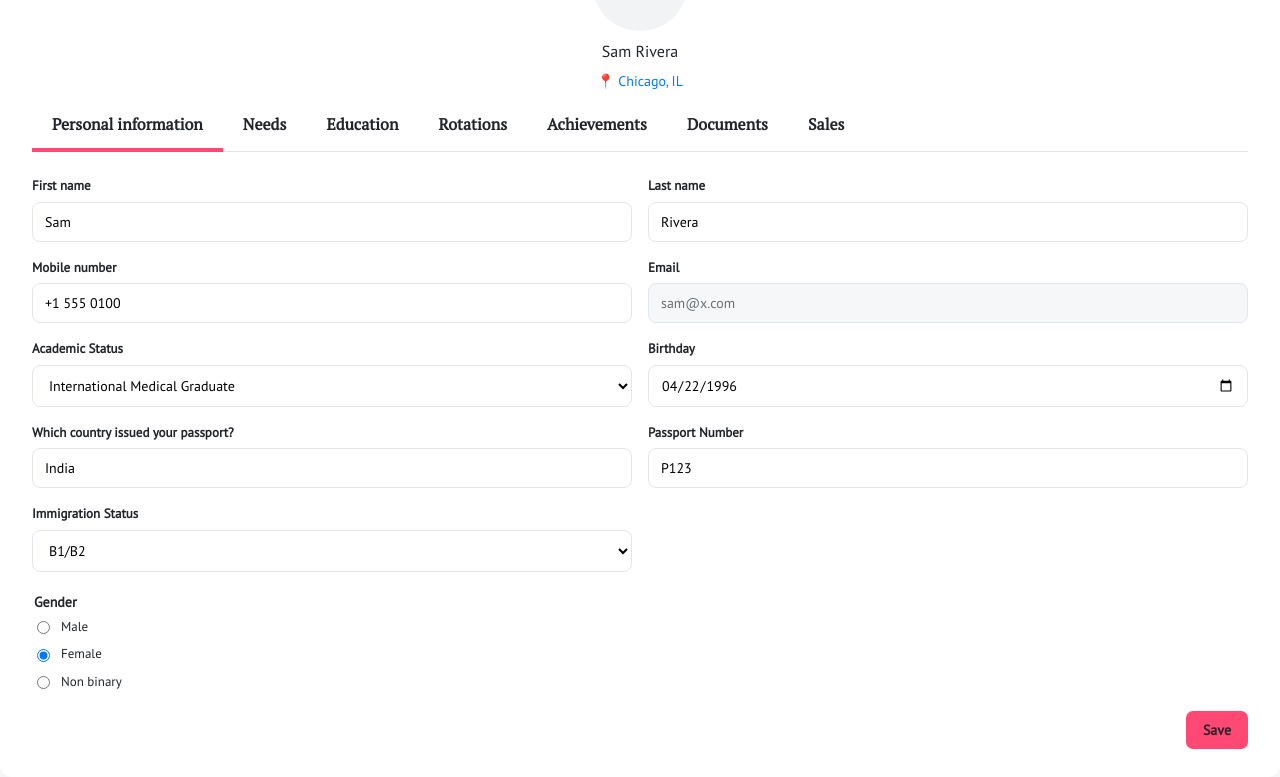
it: StudentProfilePage › saves the Personal Information tab via the per-tab endpoint
This screenshot has width=1280, height=777.
(page scrolled)
expect the field labelled "First name" is shown: met, box [32,202,632,242]
Click the button "Save": (1217,730) [1186,711,1248,749]
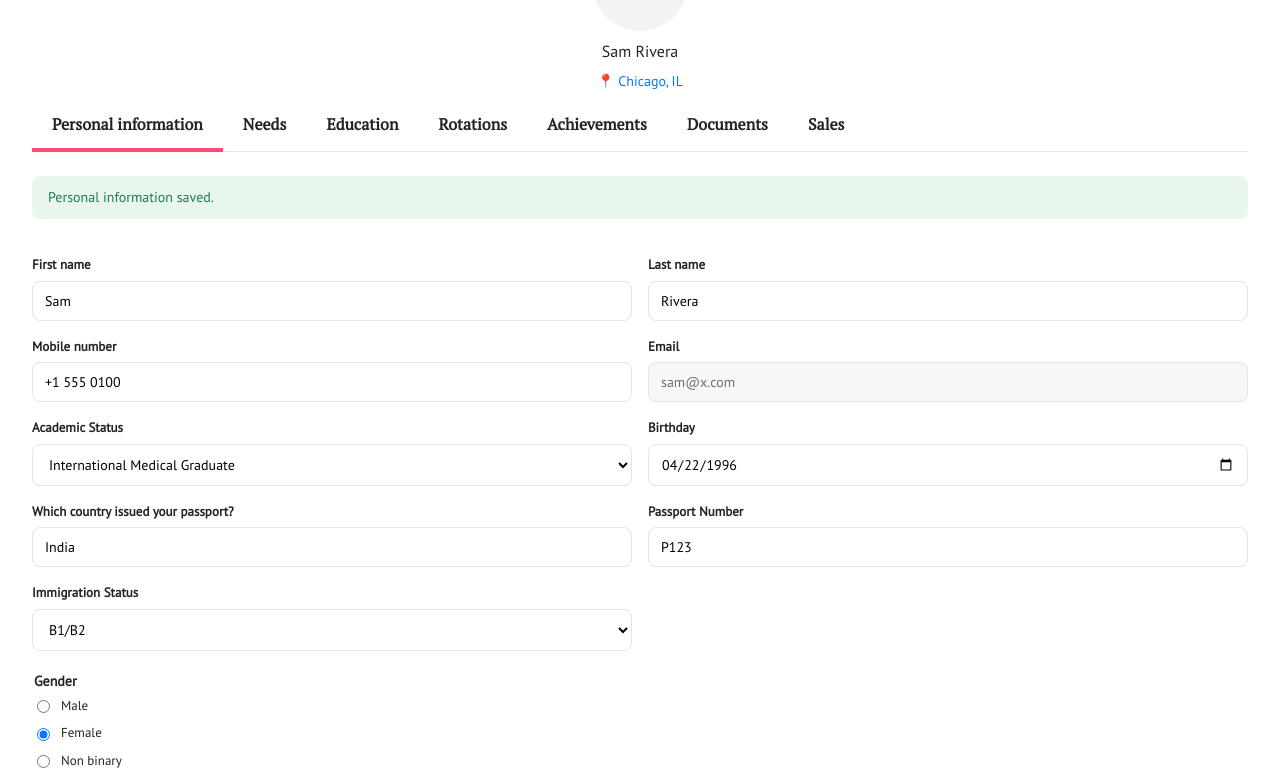
expect the text "Personal information saved." is shown: met, box [32,176,1248,219]
